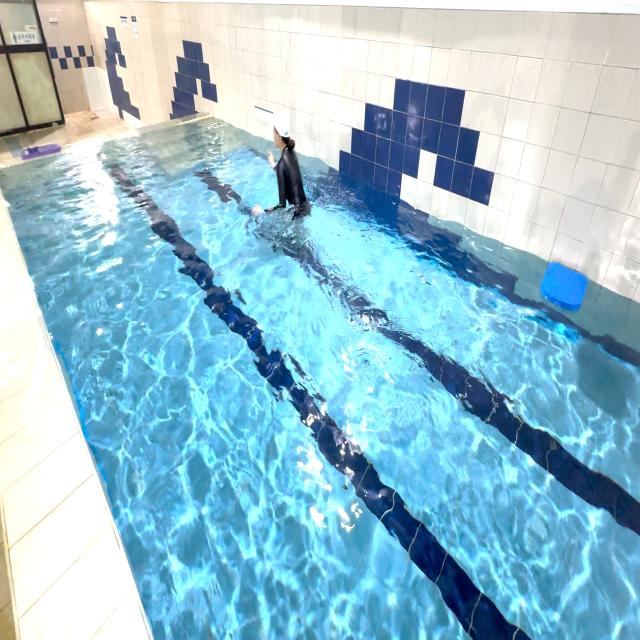Swimming: (236, 83, 330, 247)
